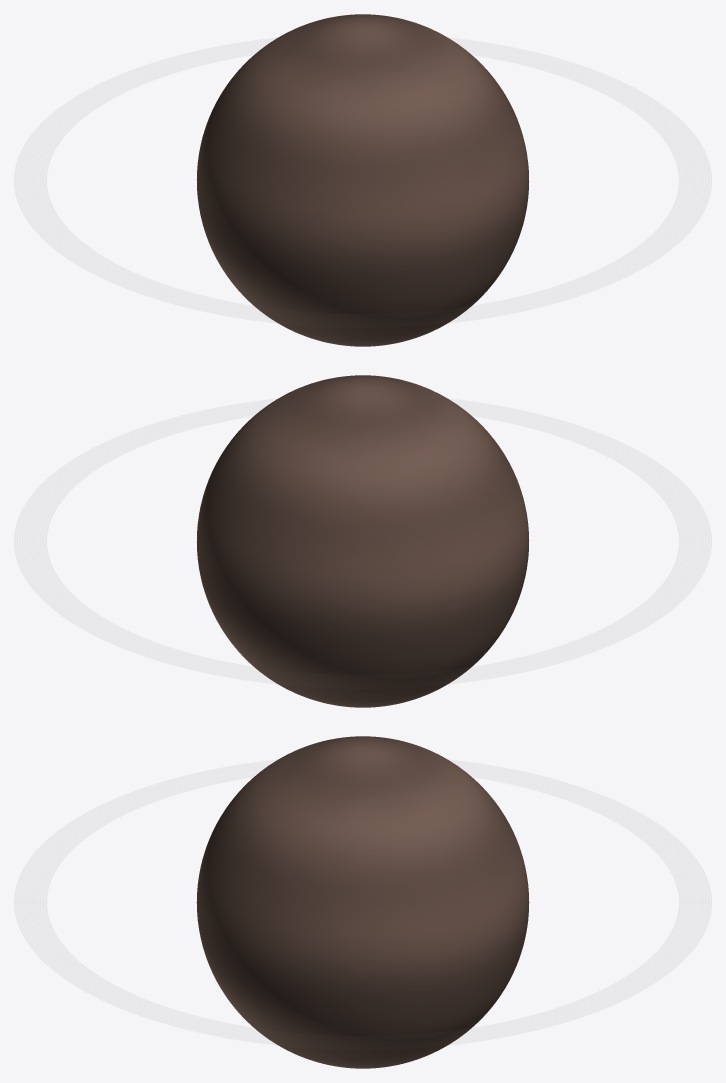
Rendered from eight-ball.glb.
3 renders of one model, top to bottom at view 1: azimuth 30°, elevation 25°; view 2: azimuth 150°, elevation 25°; view 3: azimuth 270°, elevation 25°, orthographic.
Parts seen in each view (by area): view 1: SM_eight-ball; view 2: SM_eight-ball; view 3: SM_eight-ball.
Part boxes in pixels (x1=…): SM_eight-ball: x1=196, y1=14, x2=529, y2=346; SM_eight-ball: x1=196, y1=375, x2=529, y2=707; SM_eight-ball: x1=196, y1=736, x2=529, y2=1068.
Bounding box in the file's own units: 4.2 × 2 × 4.2.
2 materials, 2 textured.
